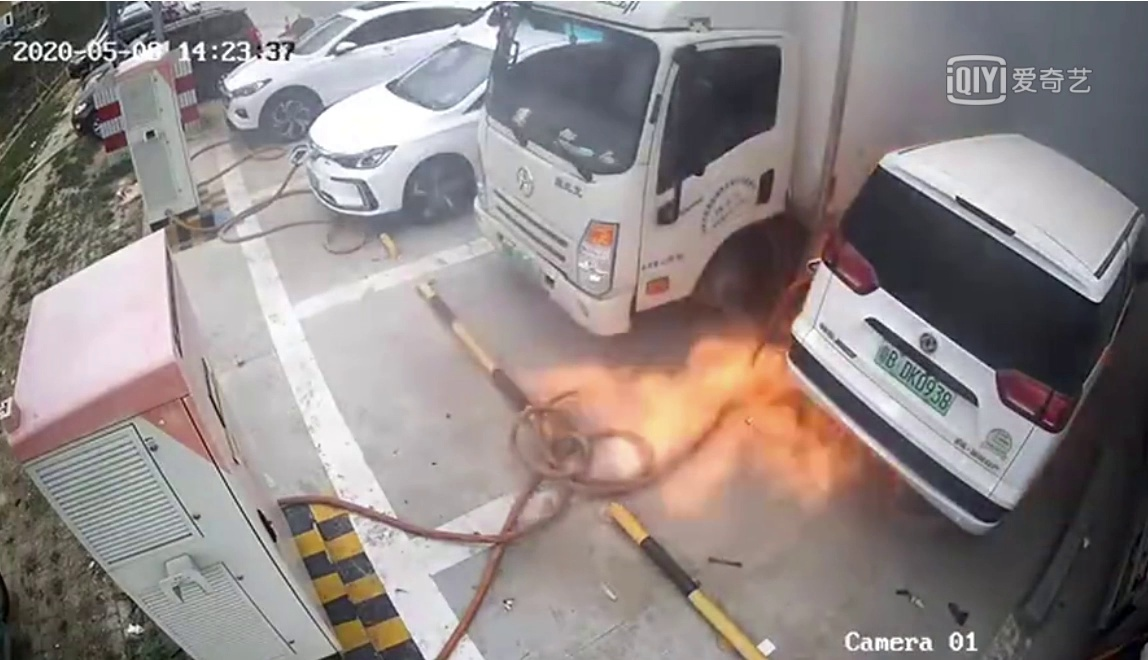fire: (529, 334, 848, 506)
